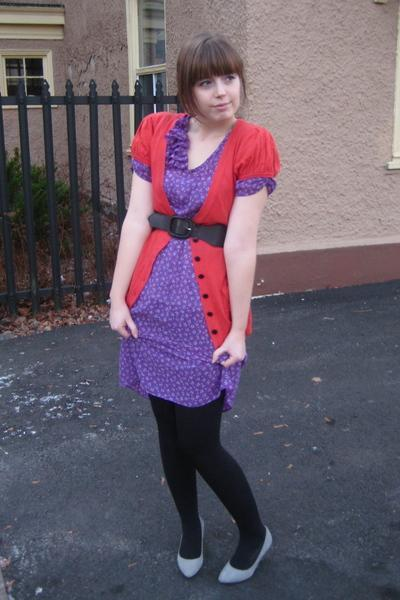dress: (118, 113, 275, 407)
jacket: (124, 108, 280, 347)
shoe: (177, 527, 272, 581)
